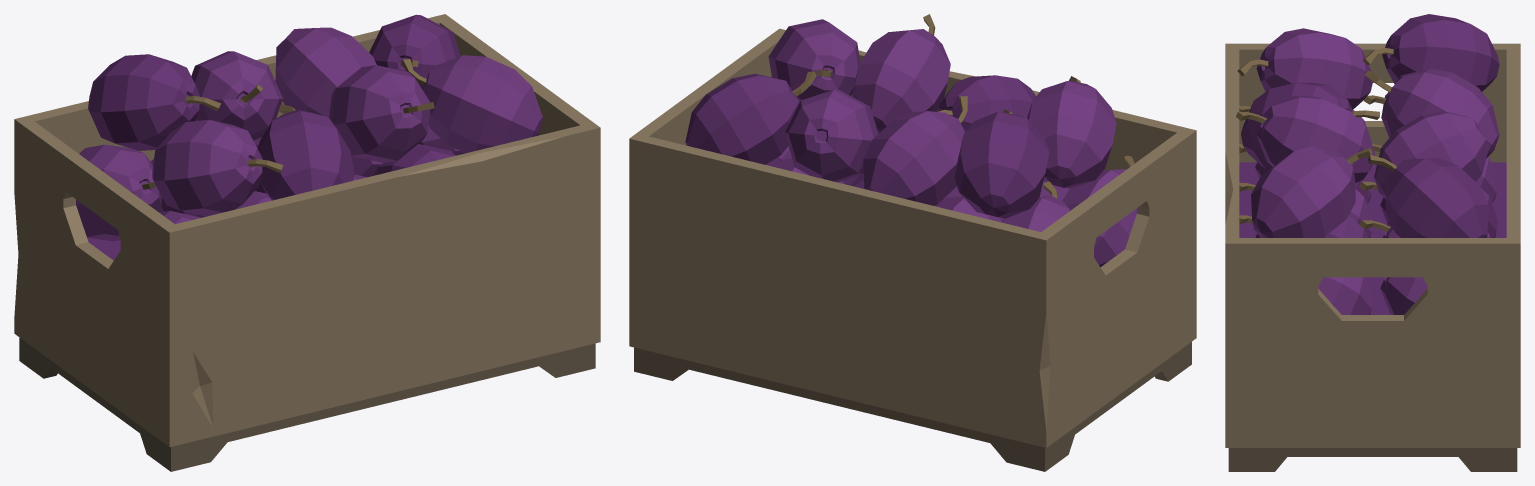
The model's file is SM_Props_Farm_Crate_Filled_Plum.fbx.
3 renders of one model, left to right at view 1: azimuth 30°, elevation 25°; view 2: azimuth 150°, elevation 25°; view 3: azimuth 270°, elevation 25°, orthographic. The views are drawn at different scales.
Visible parts, largest first — view 1: SM_Props_Farm_Crate_Filled_Plum; view 2: SM_Props_Farm_Crate_Filled_Plum; view 3: SM_Props_Farm_Crate_Filled_Plum.
Boxes of the visible parts, box(x1,y1,x2,y2) form: SM_Props_Farm_Crate_Filled_Plum: box(14, 14, 600, 471); SM_Props_Farm_Crate_Filled_Plum: box(629, 14, 1196, 471); SM_Props_Farm_Crate_Filled_Plum: box(1225, 14, 1520, 471).
Size of the model in its own units: 101 by 69.92 by 63.
